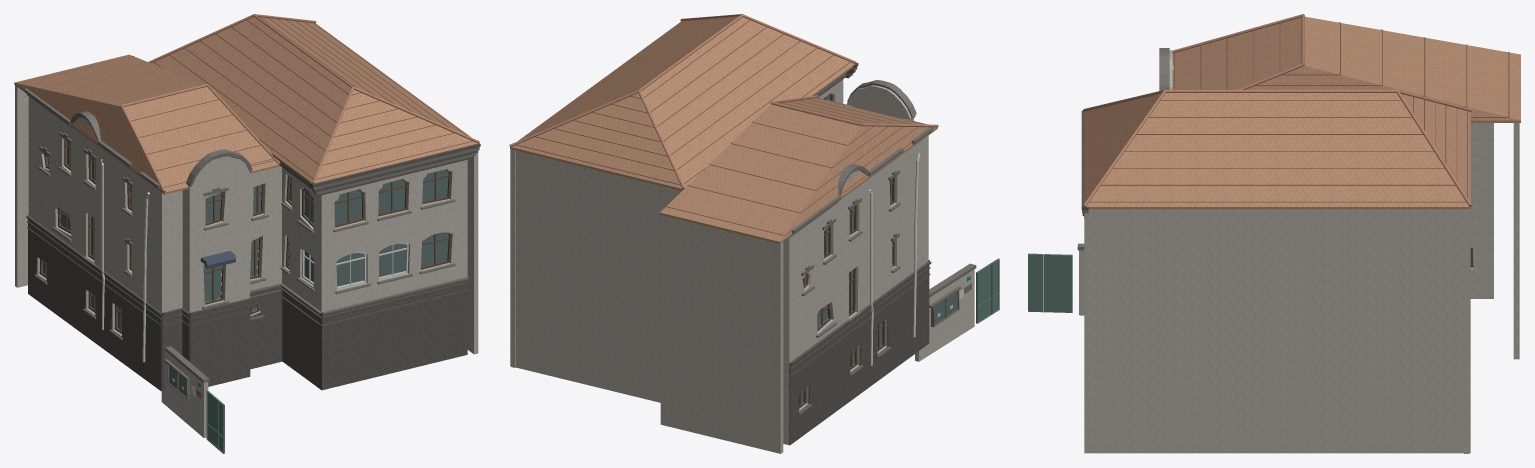
The model's file is lod-source.glb.
3 renders of one model, left to right at view 1: azimuth 30°, elevation 25°; view 2: azimuth 150°, elevation 25°; view 3: azimuth 270°, elevation 25°, orthographic. The views are drawn at different scales.
Visible parts, largest first — view 1: 愚园路1112弄4号蒋光鼐旧居; view 2: 愚园路1112弄4号蒋光鼐旧居; view 3: 愚园路1112弄4号蒋光鼐旧居.
Boxes of the visible parts, left/top/right/bottom form: 愚园路1112弄4号蒋光鼐旧居: left=14, top=14, right=480, bottom=453; 愚园路1112弄4号蒋光鼐旧居: left=509, top=14, right=999, bottom=453; 愚园路1112弄4号蒋光鼐旧居: left=1028, top=14, right=1520, bottom=453.
Bounding box in the file's own units: 16.48 × 15.62 × 21.18.
15 materials, 5 textured.
